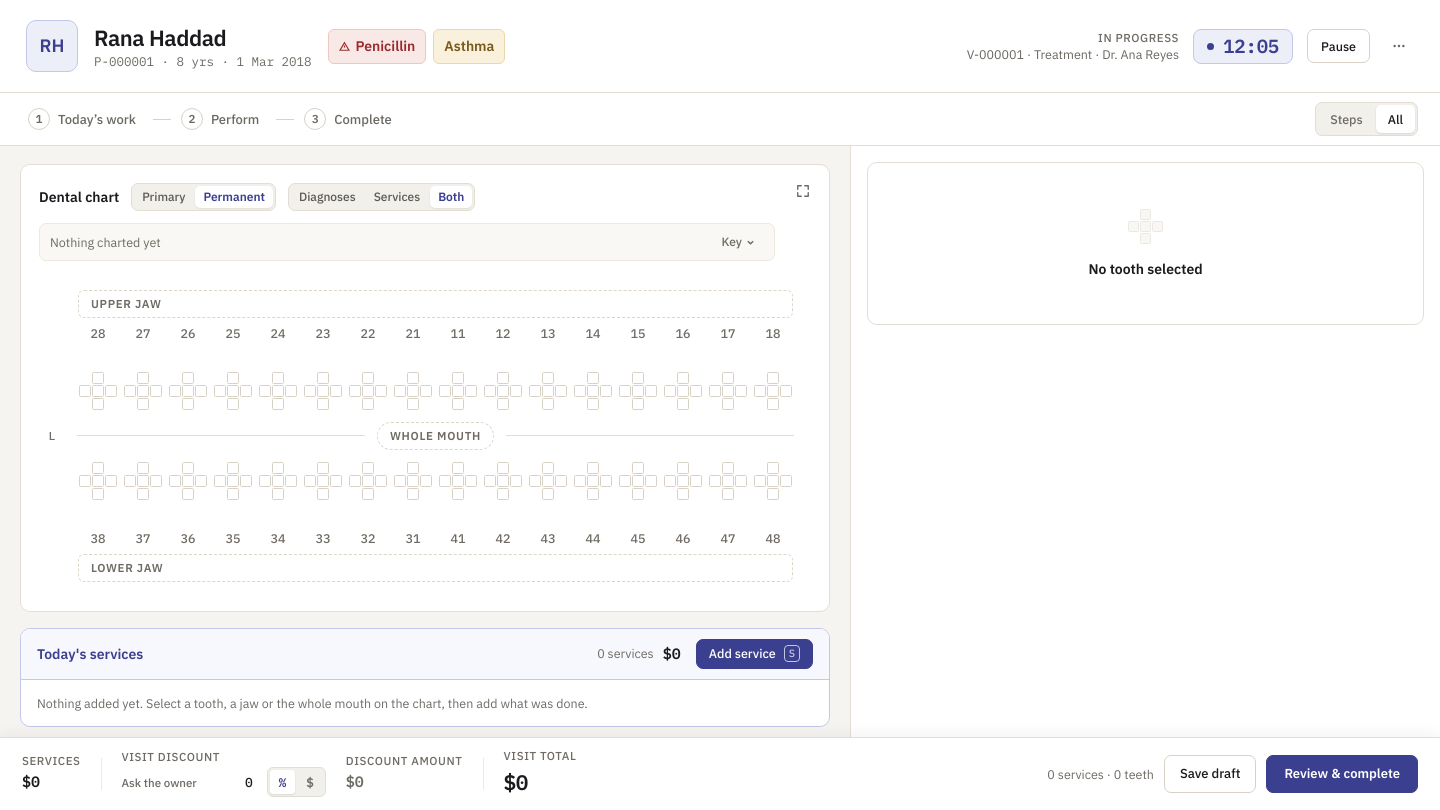
ToothPanel › shows the header: label, Upper, name and the surface hint
Expected: the element named "Upper arch" is shown, [78, 324, 793, 411]
Click the button named "#16 · ". click: (683, 367)
box: [663, 324, 703, 411]
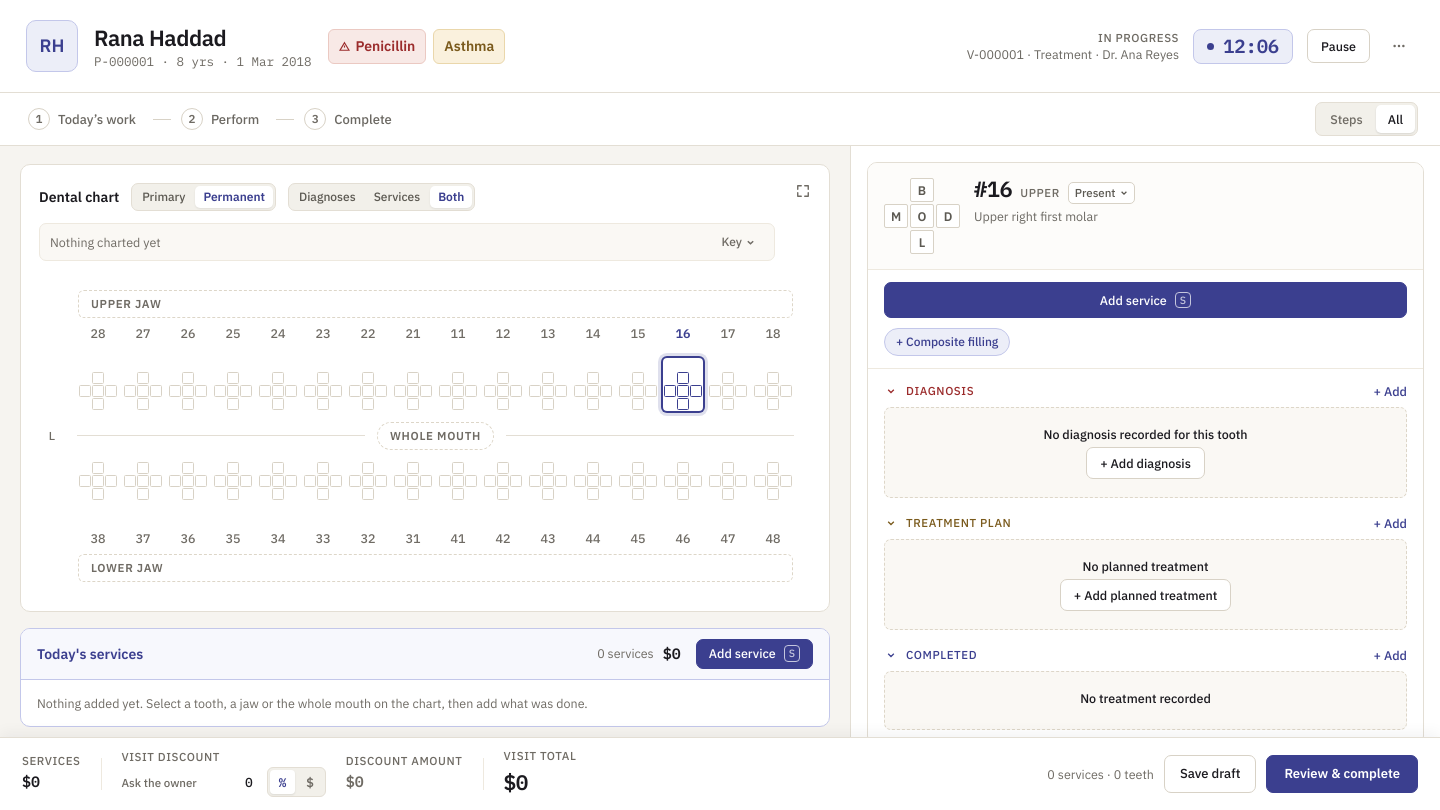
Expected: the heading "#16" is shown, [974, 178, 1012, 200]
Expected: the text "Upper" is shown, [1020, 187, 1060, 198]
Expected: the text "Upper right first molar" is shown, [974, 208, 1098, 224]
